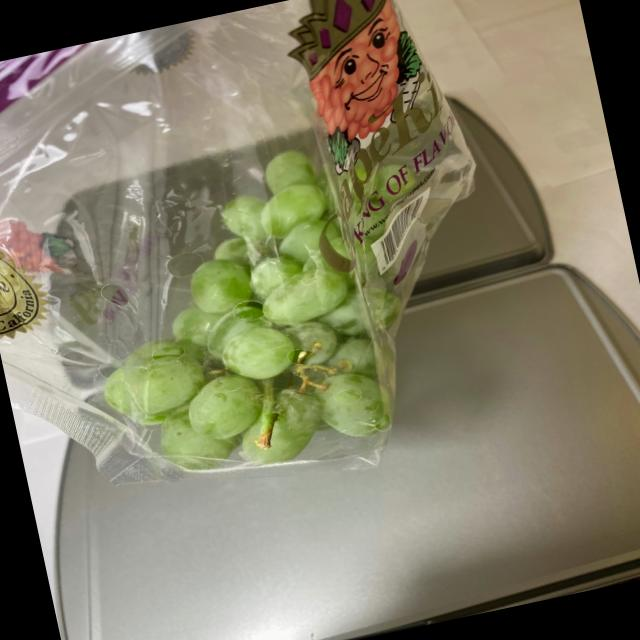grapes: (64, 115, 483, 491)
